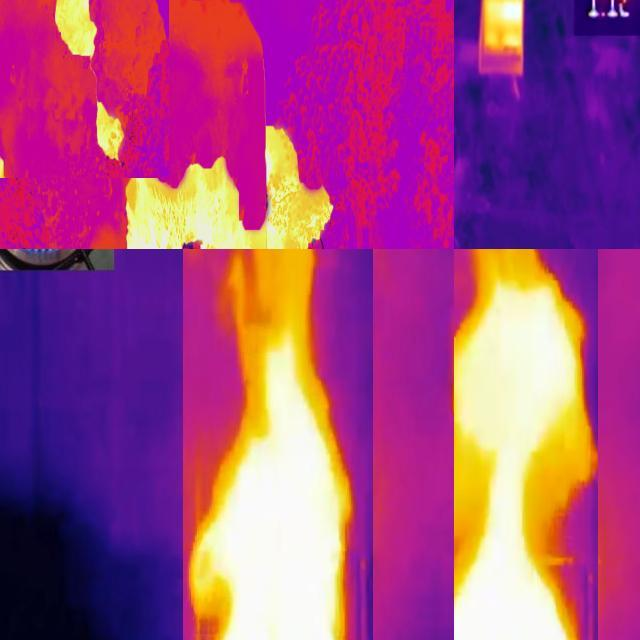fire: (455, 297, 593, 640), (93, 87, 335, 250), (183, 431, 358, 640), (45, 2, 110, 65), (483, 1, 526, 45)
